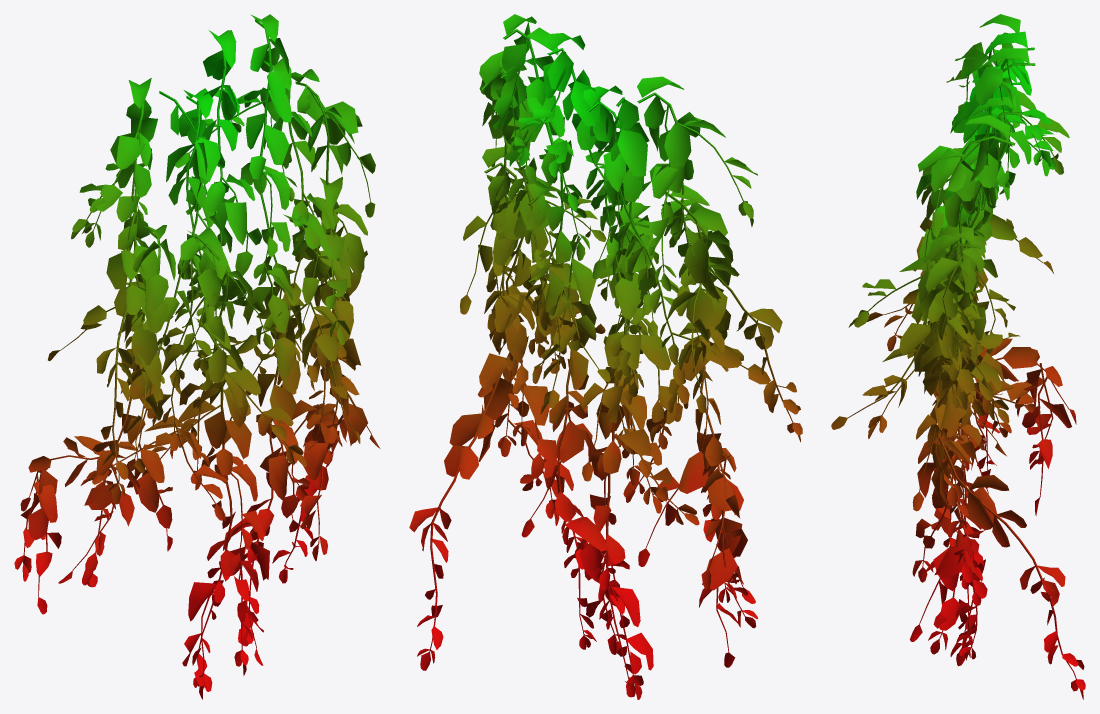
File: Var5_LOD2.fbx
The picture shows the model from 3 angles, left to right: view 1: azimuth 30°, elevation 25°; view 2: azimuth 150°, elevation 25°; view 3: azimuth 270°, elevation 25°; orthographic projection. The views are drawn at different scales.
Parts seen in each view (by area): view 1: _d0c8_Var5_LOD2; view 2: _d0c8_Var5_LOD2; view 3: _d0c8_Var5_LOD2.
Part boxes in pixels (x1=…): _d0c8_Var5_LOD2: x1=14, y1=14, x2=380, y2=699; _d0c8_Var5_LOD2: x1=409, y1=14, x2=802, y2=699; _d0c8_Var5_LOD2: x1=831, y1=14, x2=1085, y2=699.
Bounding box in the file's own units: 65.17 × 126 × 44.22.
